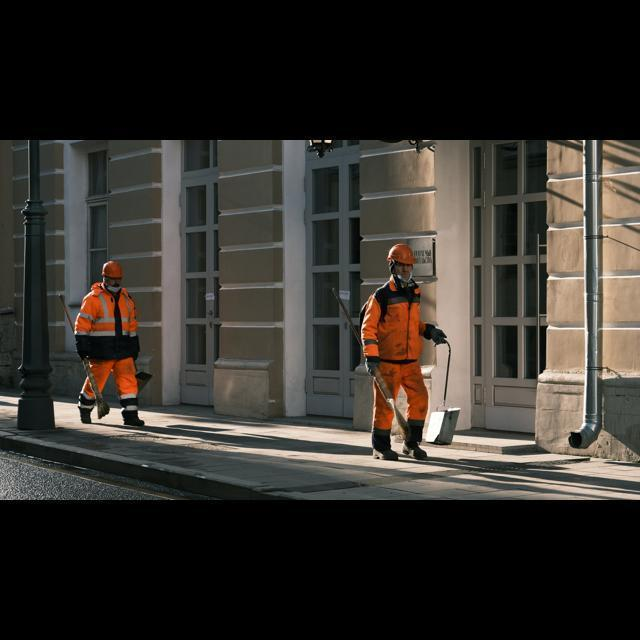helmet: (374, 237, 428, 271), (89, 252, 126, 286)
safety_vest: (359, 280, 439, 378), (77, 283, 140, 366)
